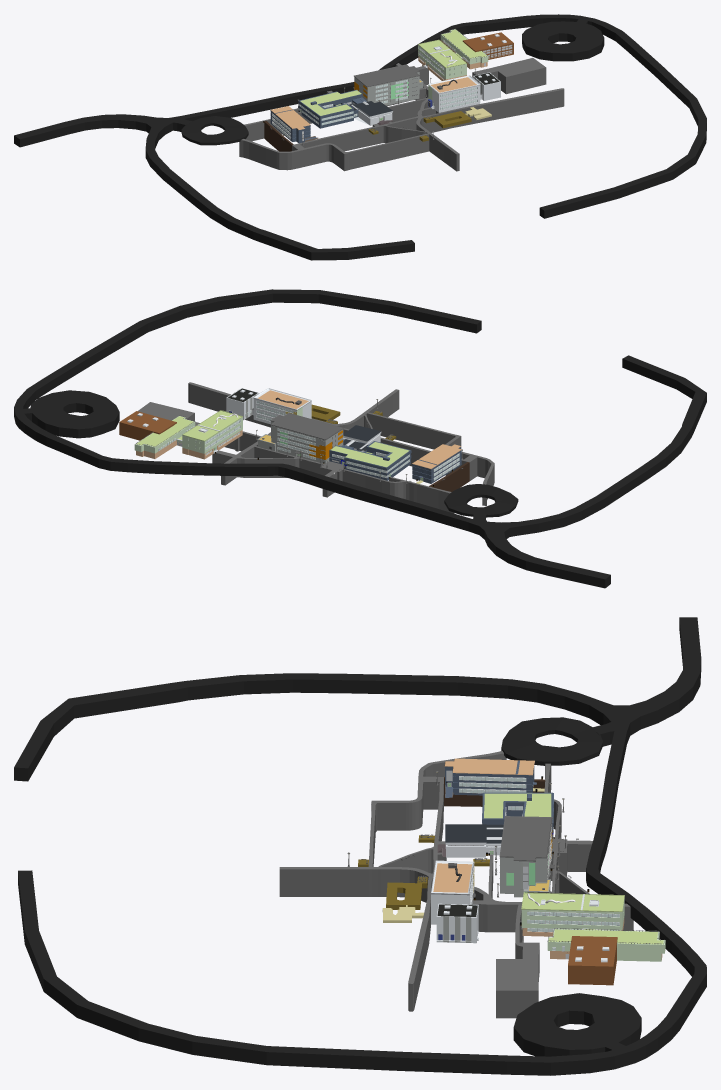
The model's file is IUT_V2.fbx.
3 renders of one model, top to bottom at view 1: azimuth 30°, elevation 25°; view 2: azimuth 150°, elevation 25°; view 3: azimuth 270°, elevation 25°, orthographic. The views are drawn at different scales.
Parts seen in each view (by area): view 1: grande_route, petite_route, Batiment_infocom, batiment_chimie, batiment_genie_civil2, Batiment_Administration, batiment_genie_civil, bat_info, Batiment_Amphi, sol_table.001; view 2: grande_route, petite_route, Batiment_infocom, batiment_genie_civil2, batiment_chimie, Batiment_Administration, batiment_genie_civil, bat_info, Batiment_Amphi; view 3: grande_route, petite_route, batiment_genie_civil2, Batiment_infocom, batiment_chimie, batiment_genie_civil, bat_info, Batiment_Administration, Batiment_Amphi, sol_table.001.
Part boxes in pixels (<box>): grande_route: <box>14,14,706,260</box>; petite_route: <box>239,58,564,171</box>; Batiment_infocom: <box>354,64,423,105</box>; batiment_chimie: <box>428,72,500,112</box>; batiment_genie_civil2: <box>440,29,513,69</box>; Batiment_Administration: <box>298,89,366,128</box>; batiment_genie_civil: <box>418,39,466,80</box>; bat_info: <box>270,106,318,143</box>; Batiment_Amphi: <box>349,101,392,125</box>; sol_table.001: <box>423,111,471,128</box>; grande_route: <box>14,289,706,588</box>; petite_route: <box>138,382,494,513</box>; Batiment_infocom: <box>257,413,343,463</box>; batiment_genie_civil2: <box>119,411,195,458</box>; batiment_chimie: <box>226,388,311,424</box>; Batiment_Administration: <box>329,441,411,480</box>; batiment_genie_civil: <box>176,410,242,459</box>; bat_info: <box>412,444,461,483</box>; Batiment_Amphi: <box>343,425,381,451</box>; grande_route: <box>14,617,706,1075</box>; petite_route: <box>279,751,633,1018</box>; batiment_genie_civil2: <box>547,929,665,985</box>; Batiment_infocom: <box>499,816,554,897</box>; batiment_chimie: <box>431,860,478,943</box>; batiment_genie_civil: <box>521,892,624,936</box>; bat_info: <box>444,758,544,797</box>; Batiment_Administration: <box>482,792,553,838</box>; Batiment_Amphi: <box>437,824,503,857</box>; sol_table.001: <box>386,876,427,909</box>.
Size of what is drawn, in the model's own units: 70615 by 5073 by 46422.
